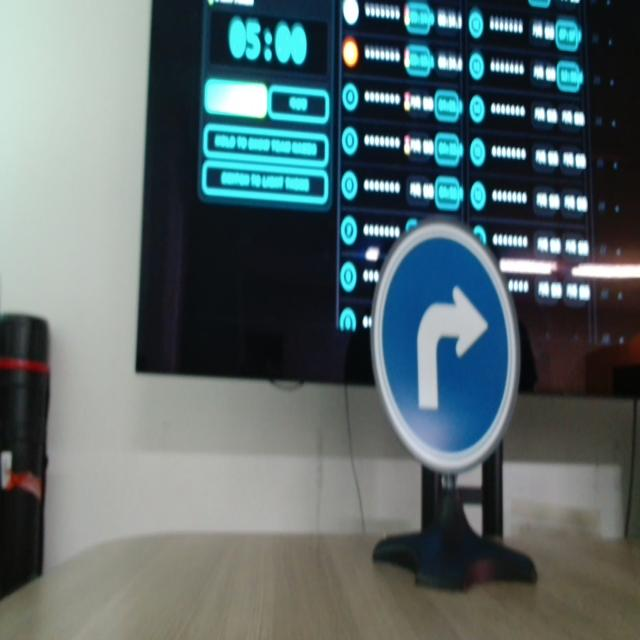right_dierection: (365, 202, 566, 528)
